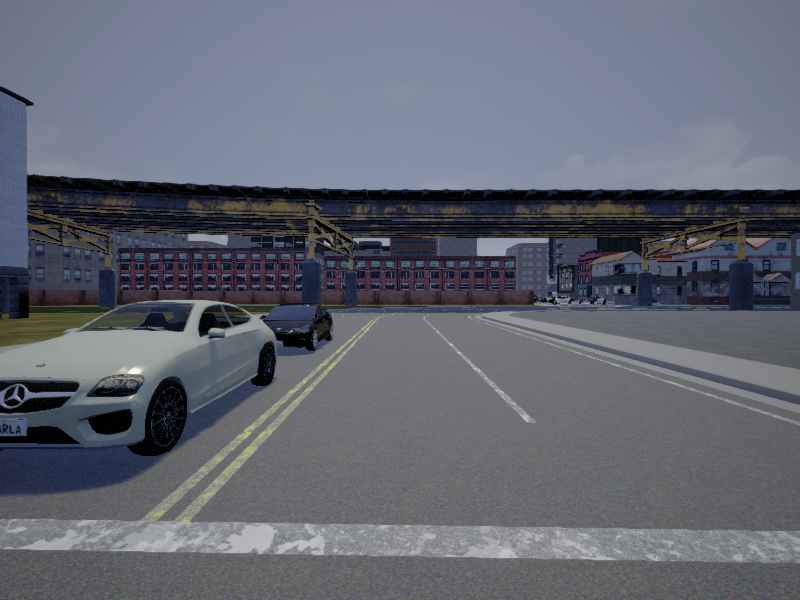Benign: (1, 298, 277, 456), (264, 303, 333, 351)
